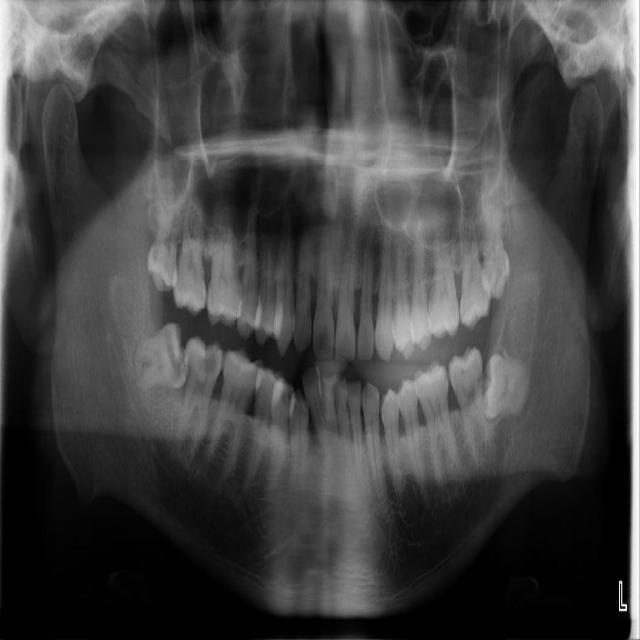Caries: (205, 348, 217, 368)
impacted tooth: (135, 320, 188, 396), (485, 355, 533, 421)
